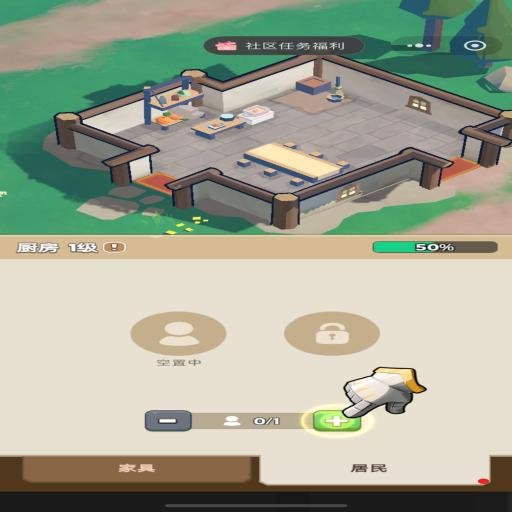newcomer_hand: (339, 366, 424, 417)
